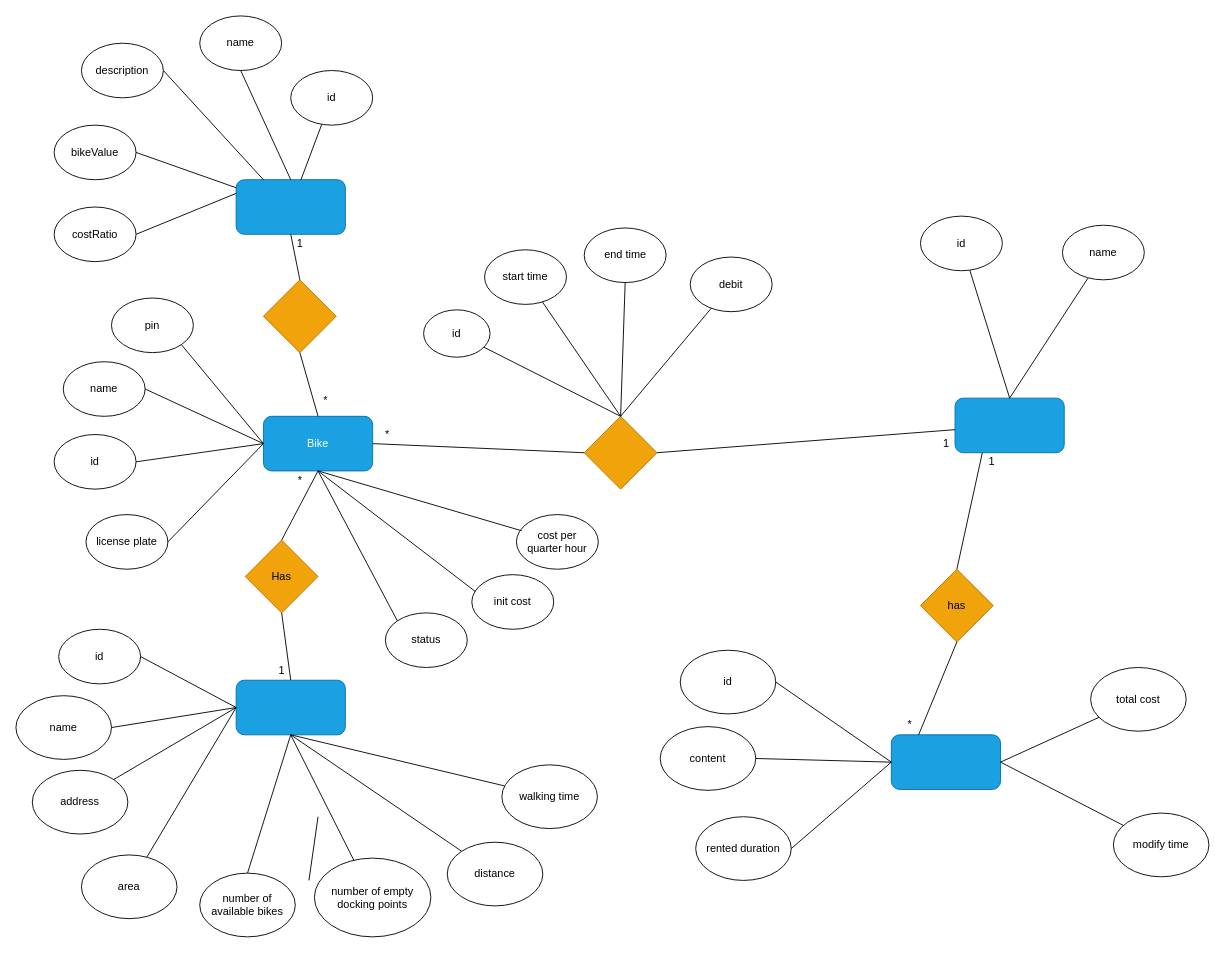
Some shapes in this 1225 by 953 pixel diagram are drawn without their labels. Here are the shapes that lost their labels. From the top down, the box of each, then its label:
(235, 179, 345, 234): Category
(263, 279, 336, 353): is
(954, 397, 1064, 453): User
(583, 415, 657, 489): rent
(235, 679, 345, 735): Dock
(890, 734, 1001, 789): Transaction
